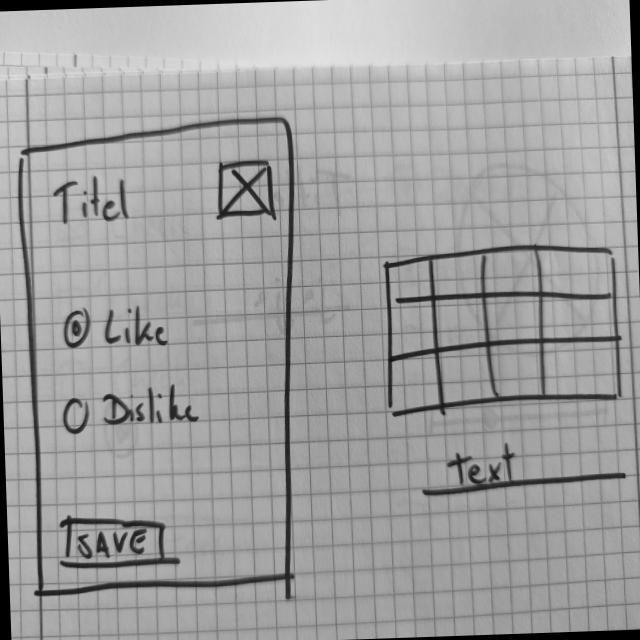button: (59, 512, 171, 572)
container: (16, 115, 312, 604)
image: (216, 158, 280, 222)
input: (417, 434, 627, 499)
label: (50, 172, 134, 229)
radio: (62, 380, 202, 438), (60, 301, 177, 354)
table: (383, 239, 628, 421)
